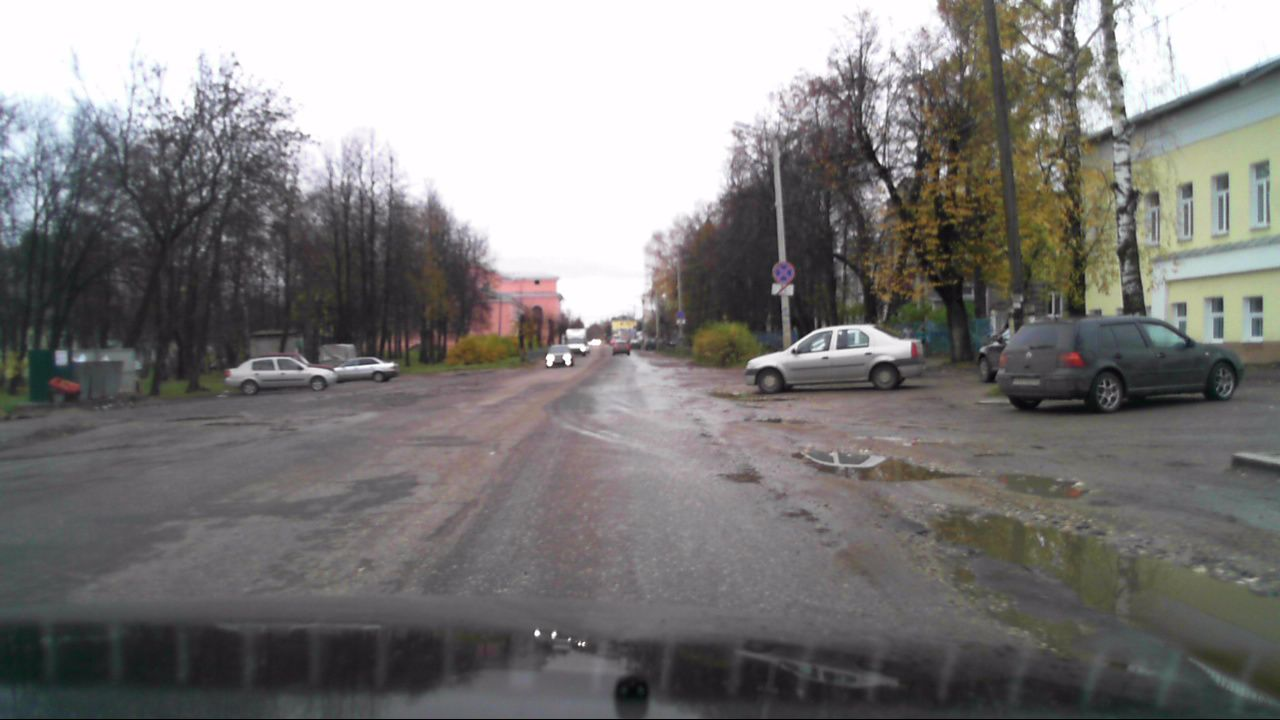No Parking: (771, 260, 795, 282)
